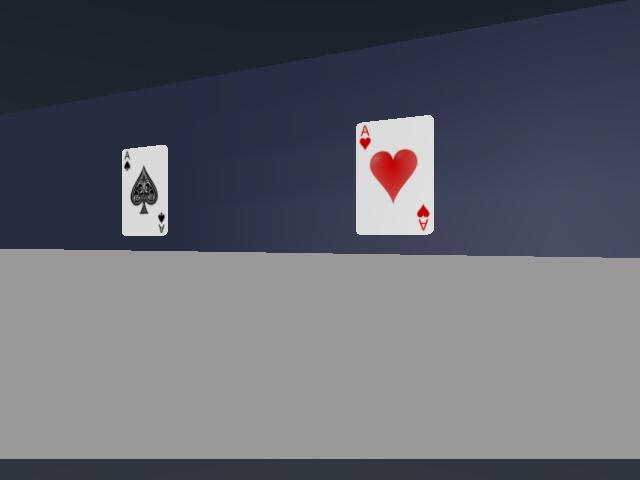club: (122, 145, 168, 235)
heart: (356, 116, 433, 234)
